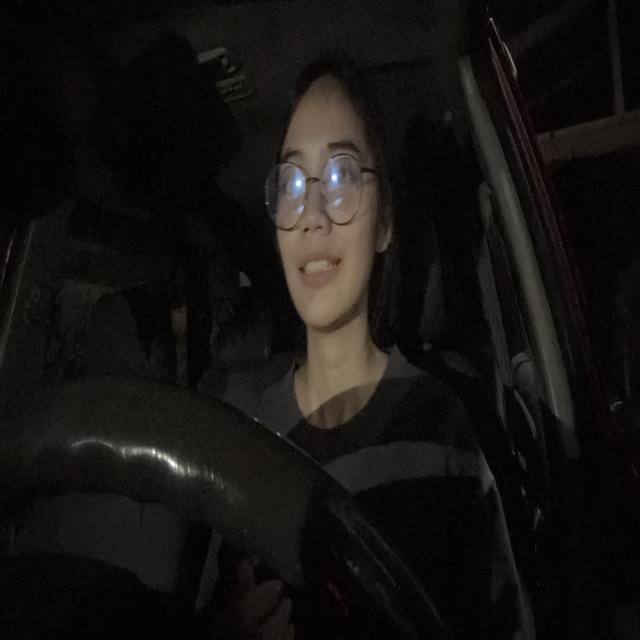open: (323, 137, 365, 200), (280, 141, 309, 215)
